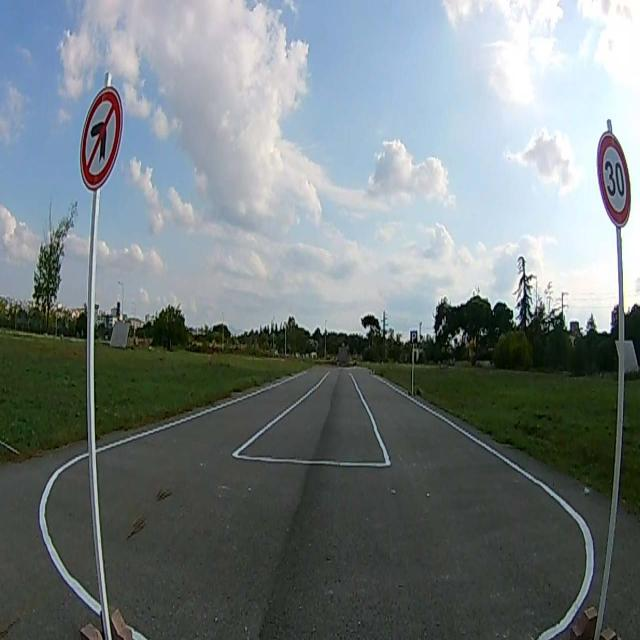30: (596, 132, 632, 228)
soladonulmez: (80, 88, 122, 188)
